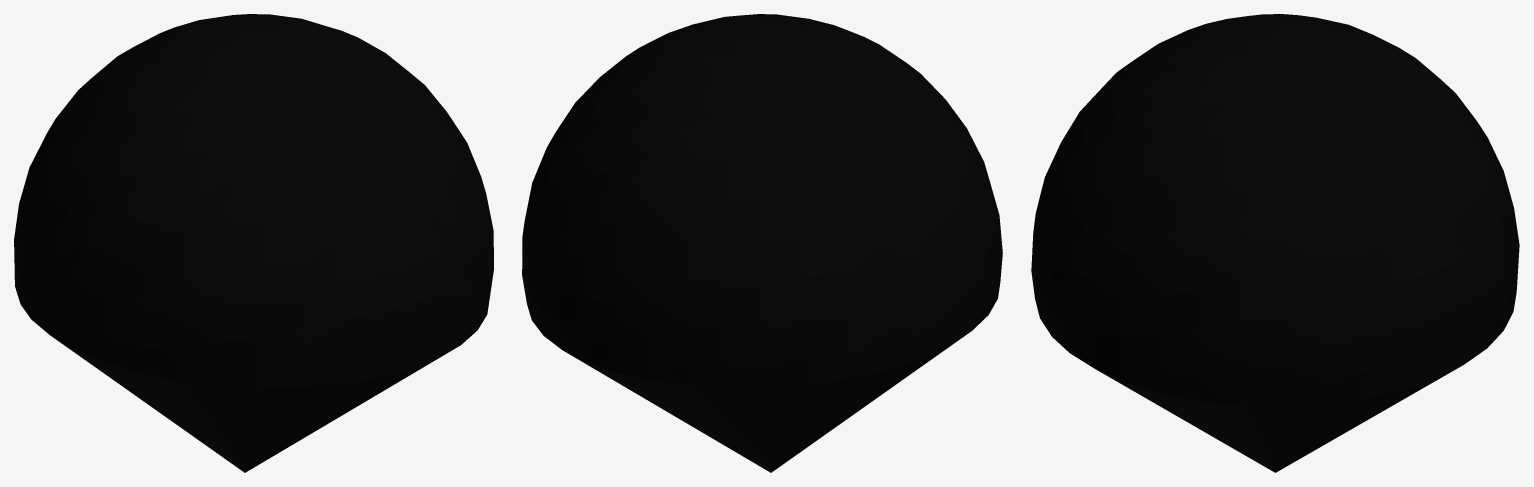
File: CapWorldHomeSky.fbx
The picture shows the model from 3 angles, left to right: view 1: azimuth 30°, elevation 25°; view 2: azimuth 150°, elevation 25°; view 3: azimuth 270°, elevation 25°; orthographic projection.
Visible parts, largest first — view 1: CapWorldSky.001; view 2: CapWorldSky.001; view 3: CapWorldSky.001.
Boxes of the visible parts, box(x1,y1,x2,y2) form: CapWorldSky.001: box(14, 14, 493, 472); CapWorldSky.001: box(522, 14, 1002, 472); CapWorldSky.001: box(1031, 14, 1519, 472).
Size of the model in its own units: 1.55e+08 by 1.55e+08 by 1.55e+08.
Materials: 2 (2 with a texture image).
